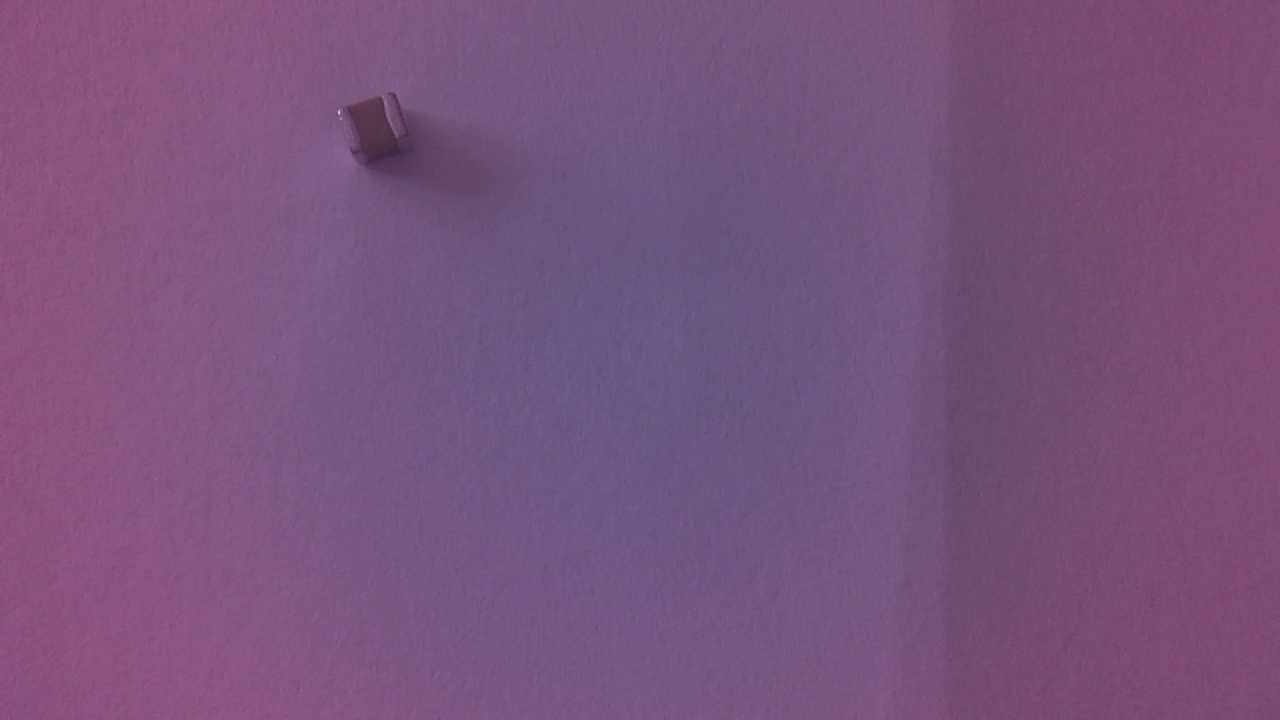Condensator: (337, 92, 418, 171)
